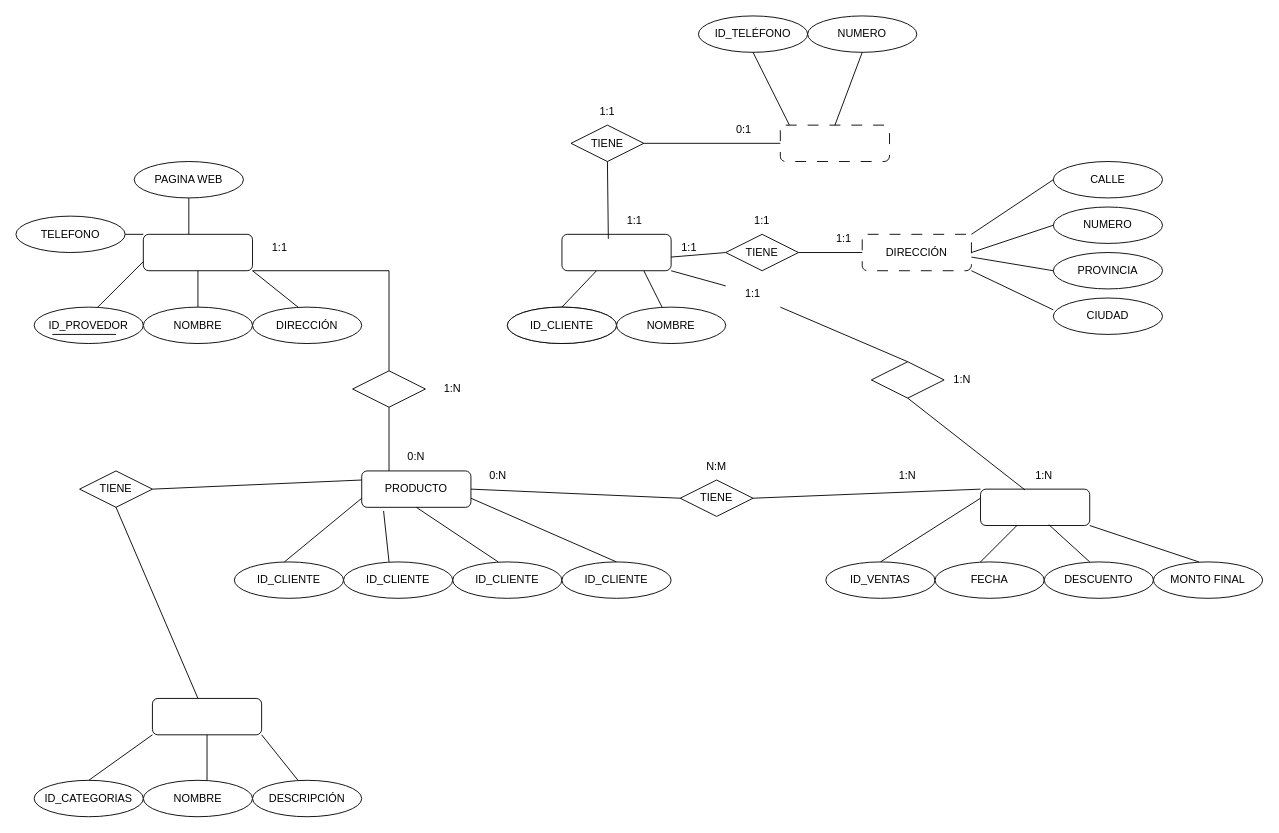
This 1279x833 diagram has some shape labels left out. Each missing label, with the centre of its shape:
"CATEGORIAS" goes at point (207, 716).
"CLIENTE" goes at point (616, 252).
"COMPRA" goes at point (907, 379).
"PROVEDOR" goes at point (197, 252).
"TELÉFONO" goes at point (834, 143).
"VENDE" goes at point (388, 388).
"VENTAS" goes at point (1035, 507).
